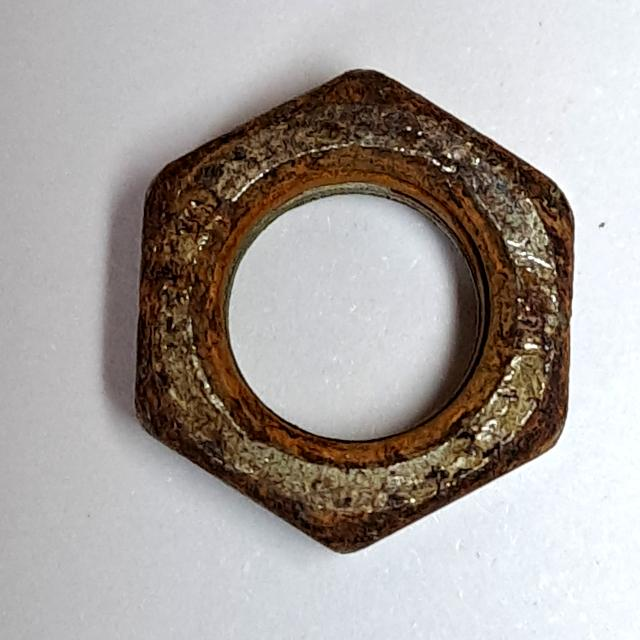Rust: (121, 59, 583, 570)
